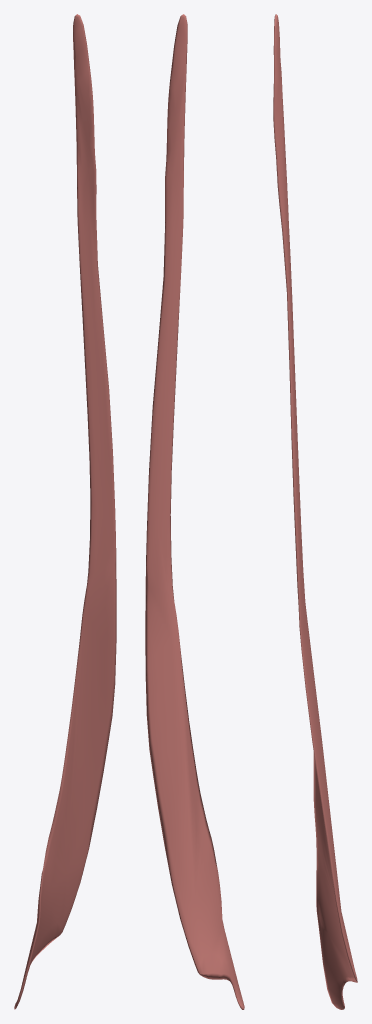
3 renders of one model, left to right at view 1: azimuth 30°, elevation 25°; view 2: azimuth 210°, elevation 25°; view 3: azimuth 270°, elevation 25°, orthographic. The views are drawn at different scales.
Parts seen in each view (by area): view 1: ZA_96ed6084ee870524; view 2: ZA_96ed6084ee870524; view 3: ZA_96ed6084ee870524.
Boxes of the visible parts, bbox=[...] form: ZA_96ed6084ee870524: bbox=[14, 14, 116, 1009]; ZA_96ed6084ee870524: bbox=[145, 14, 244, 1009]; ZA_96ed6084ee870524: bbox=[273, 14, 357, 1009].
Size of the model in its own units: 0.0182 by 0.1972 by 0.015.
